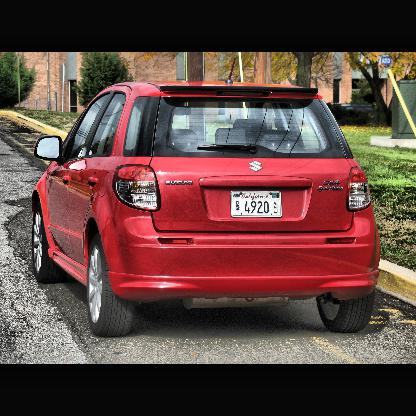Suzuki SX4 Hatchback 2012: (31, 82, 383, 335)
